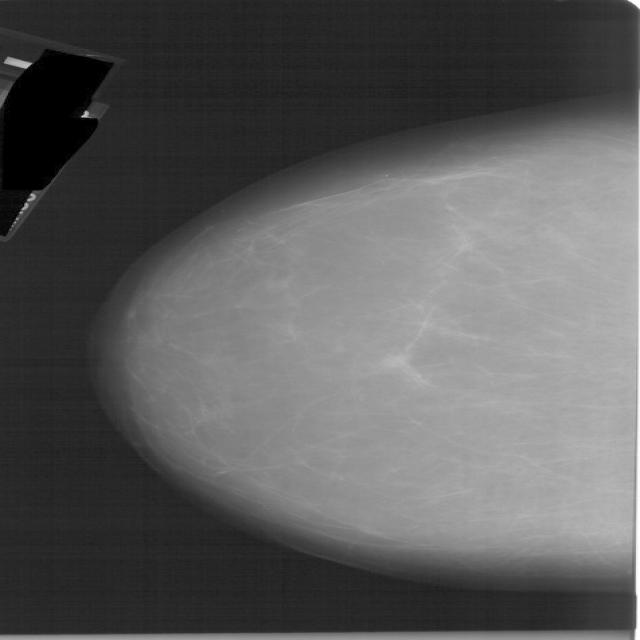tumour: (379, 352, 413, 373)
